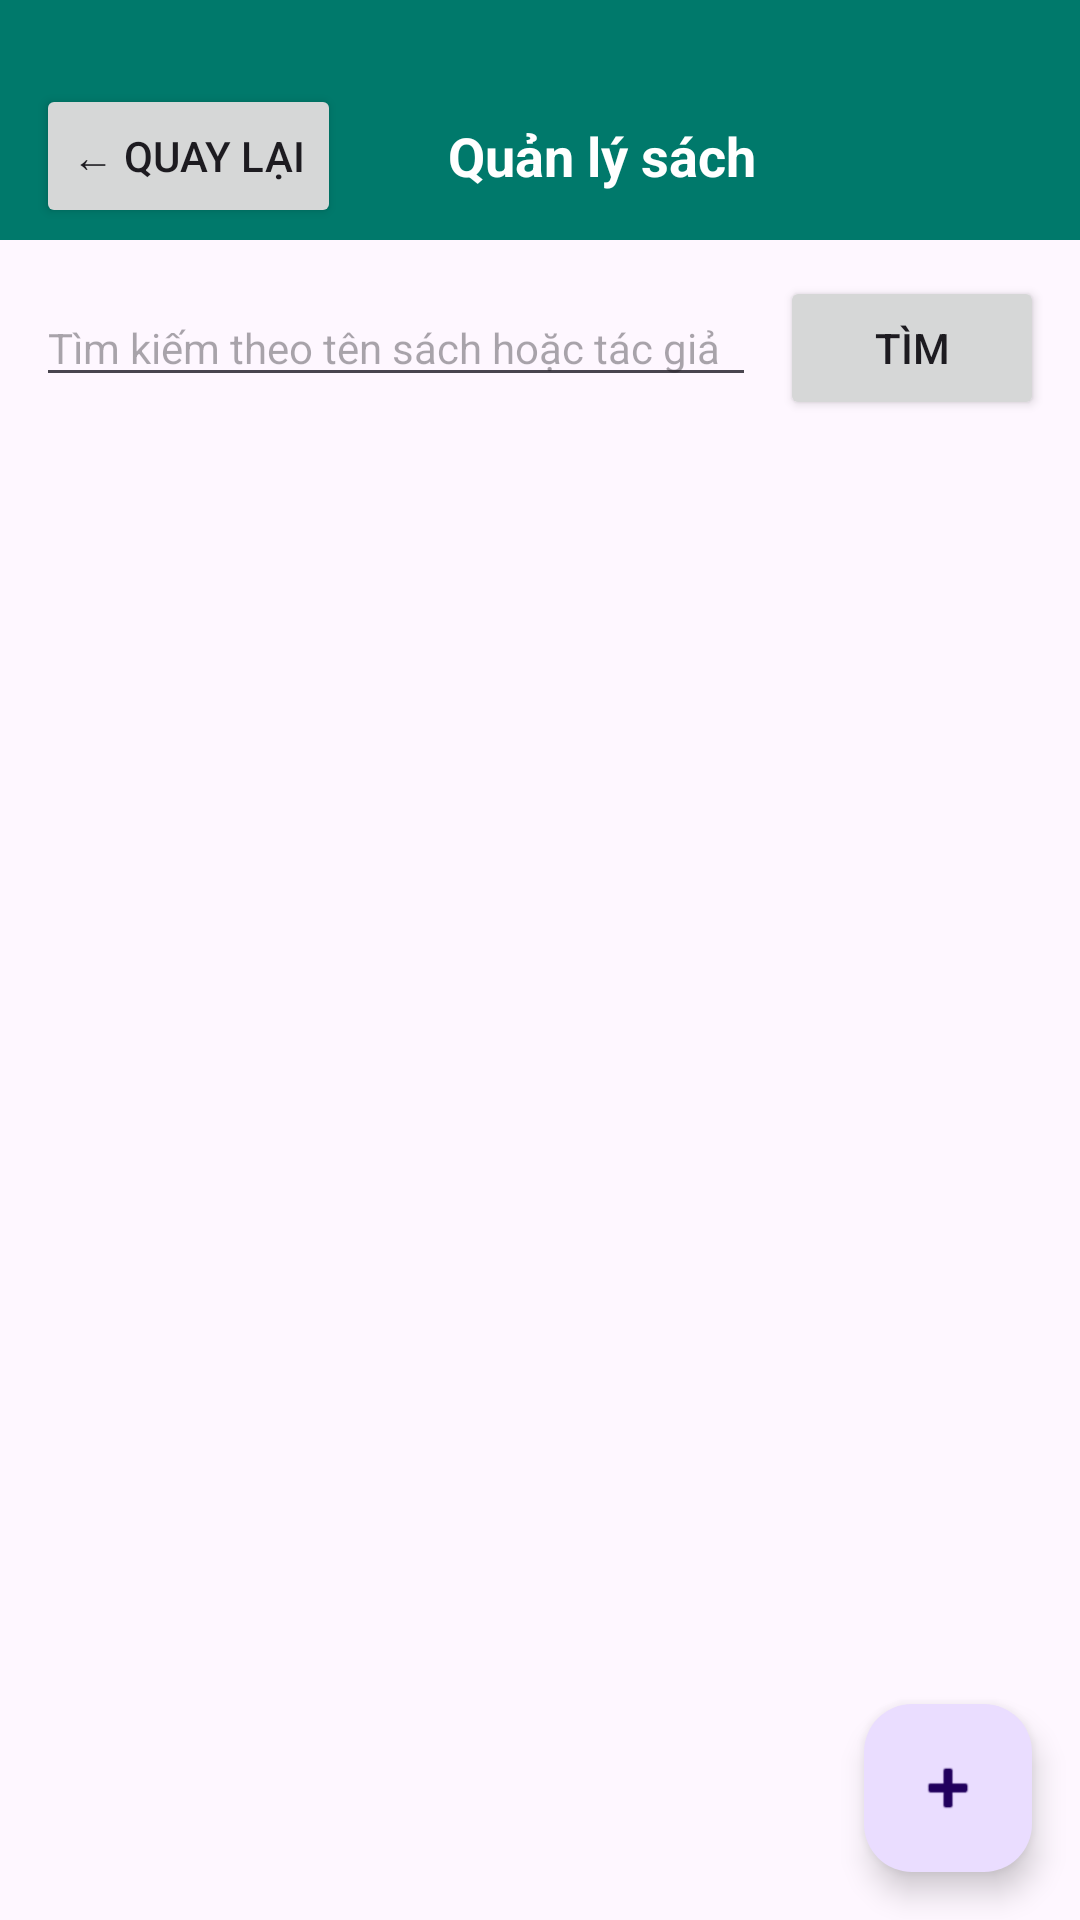

Where icons sit on this 1080×1920 app screen, as (x1, y1, x2, y2):
Thêm sách: (864, 1704, 1032, 1872)
